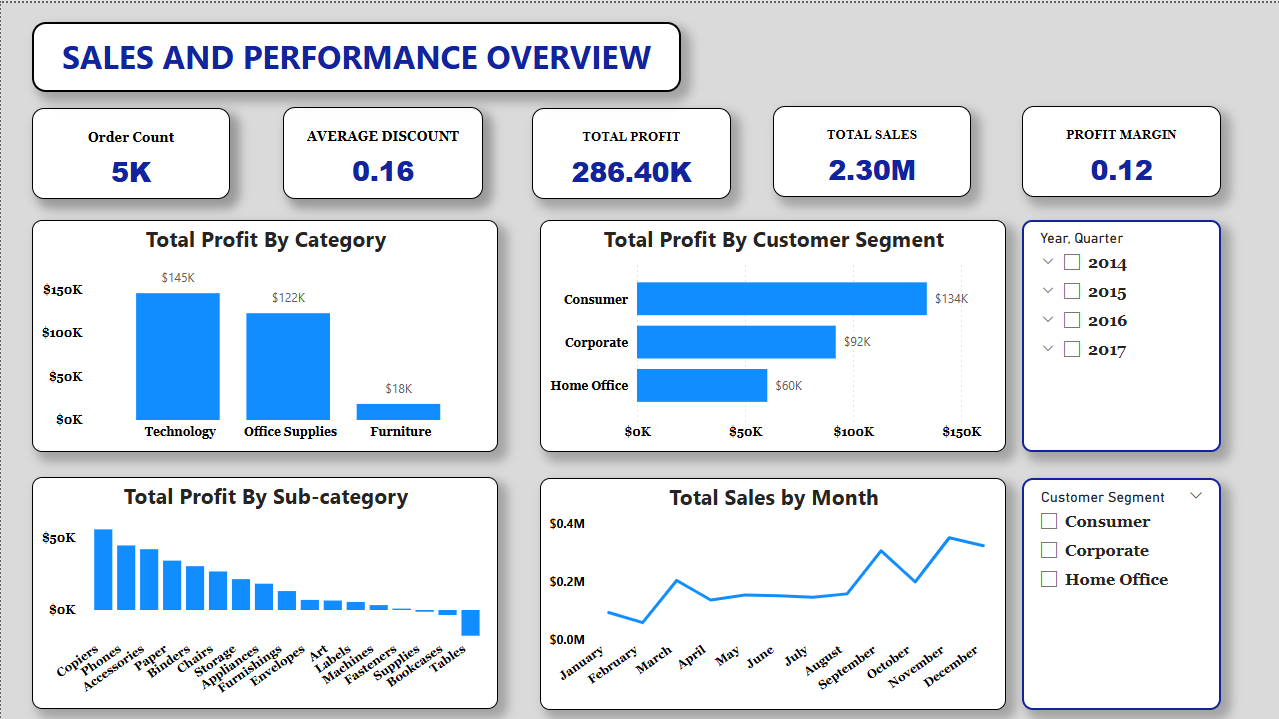

This screenshot's page, from the dashboard's own definition file:
{"tool":"powerbi","page":{"name":"Sales Overview","canvas":[1280,720],"ordinal":0},"visuals":[{"type":"lineChart","title":"Total Sales by Month","fields":{"Y":["Sum(Orders.Sales)"],"Category":["Orders.Order Date.Variation.Date Hierarchy.Month"]},"box":[538.6,475.2,466.1,232.1],"z":0},{"type":"cardVisual","fields":{"Data":["Orders.AVERAGE DISCOUNT"]},"box":[282,104.3,199.5,91.6],"z":1000},{"type":"cardVisual","fields":{"Data":["Orders.Order Count"]},"box":[30.8,105.2,198.6,90.7],"z":2000},{"type":"barChart","title":"Total Profit By Customer Segment","fields":{"Category":["Customers.Customer Segment"],"Y":["Sum(Orders.Profit)"]},"box":[538.6,216.7,466.1,232.1],"z":3000},{"type":"lineStackedColumnComboChart","title":"Total Profit By Category","fields":{"Category":["Products.Category"],"Y":["Sum(Orders.Profit)"]},"box":[30.8,216.7,466,232],"z":4000},{"type":"lineStackedColumnComboChart","title":"Total Profit By Sub-category","fields":{"Category":["Products.Sub-Category"],"Y":["Sum(Orders.Profit)"]},"box":[30.8,474.3,466.1,232.1],"z":5000},{"type":"cardVisual","fields":{"Data":["Orders.TOTAL SALES"]},"box":[771.7,103.4,198.6,90.7],"z":6000},{"type":"cardVisual","fields":{"Data":["Orders.PROFIT MARGIN"]},"box":[1021.1,103.4,198.6,90.7],"z":7000},{"type":"slicer","fields":{"Values":["Orders.Order Date.Variation.Date Hierarchy.Year","Orders.Order Date.Variation.Date Hierarchy.Quarter"]},"box":[1021.1,216.7,198.6,232.1],"z":8000},{"type":"slicer","fields":{"Values":["Customers.Customer Segment"]},"box":[1021,475,199,232],"z":9000},{"type":"cardVisual","fields":{"Data":["Orders.TOTAL PROFIT"]},"box":[531.4,105.2,198.6,90.7],"z":10000},{"type":"textbox","box":[31,19,649,70],"z":11000}]}

Visuals, with their boxes in screenshot pixels (x1, y1, x2, y2), scaled from the page's 1280x720 canvas onto the 1279x719 screenshot:
"Total Sales by Month" lineChart: bbox=[538, 475, 1004, 706]
cardVisual - Orders.AVERAGE DISCOUNT: bbox=[282, 104, 481, 196]
cardVisual - Orders.Order Count: bbox=[31, 105, 229, 196]
"Total Profit By Customer Segment" barChart: bbox=[538, 216, 1004, 448]
"Total Profit By Category" lineStackedColumnComboChart: bbox=[31, 216, 496, 448]
"Total Profit By Sub-category" lineStackedColumnComboChart: bbox=[31, 474, 497, 705]
cardVisual - Orders.TOTAL SALES: bbox=[771, 103, 970, 194]
cardVisual - Orders.PROFIT MARGIN: bbox=[1020, 103, 1219, 194]
slicer - Orders.Order Date.Variation.Date Hierarchy.Year x Orders.Order Date.Variation.Date Hierarchy.Quarter: bbox=[1020, 216, 1219, 448]
slicer - Customers.Customer Segment: bbox=[1020, 474, 1219, 706]
cardVisual - Orders.TOTAL PROFIT: bbox=[531, 105, 729, 196]
textbox: bbox=[31, 19, 679, 89]
